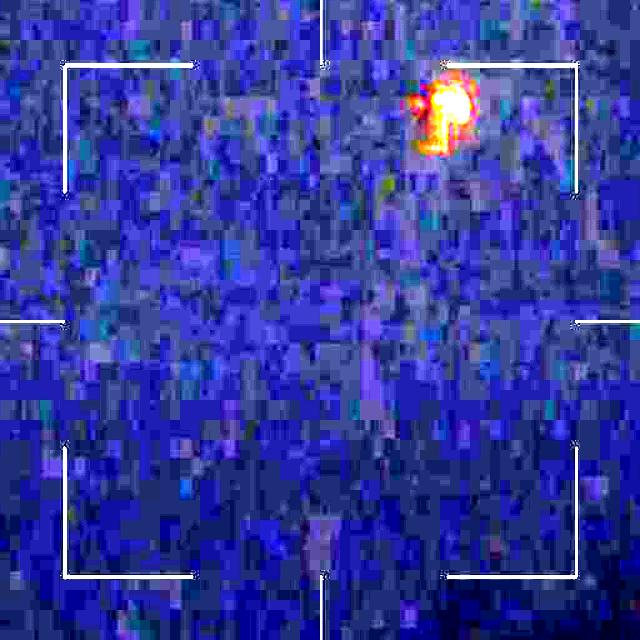bird: (391, 89, 472, 148)
